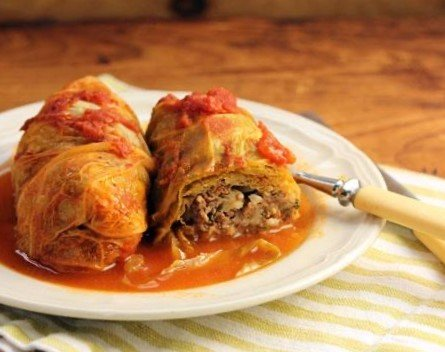sandwich: (294, 170, 445, 272)
soup: (9, 75, 156, 274)
